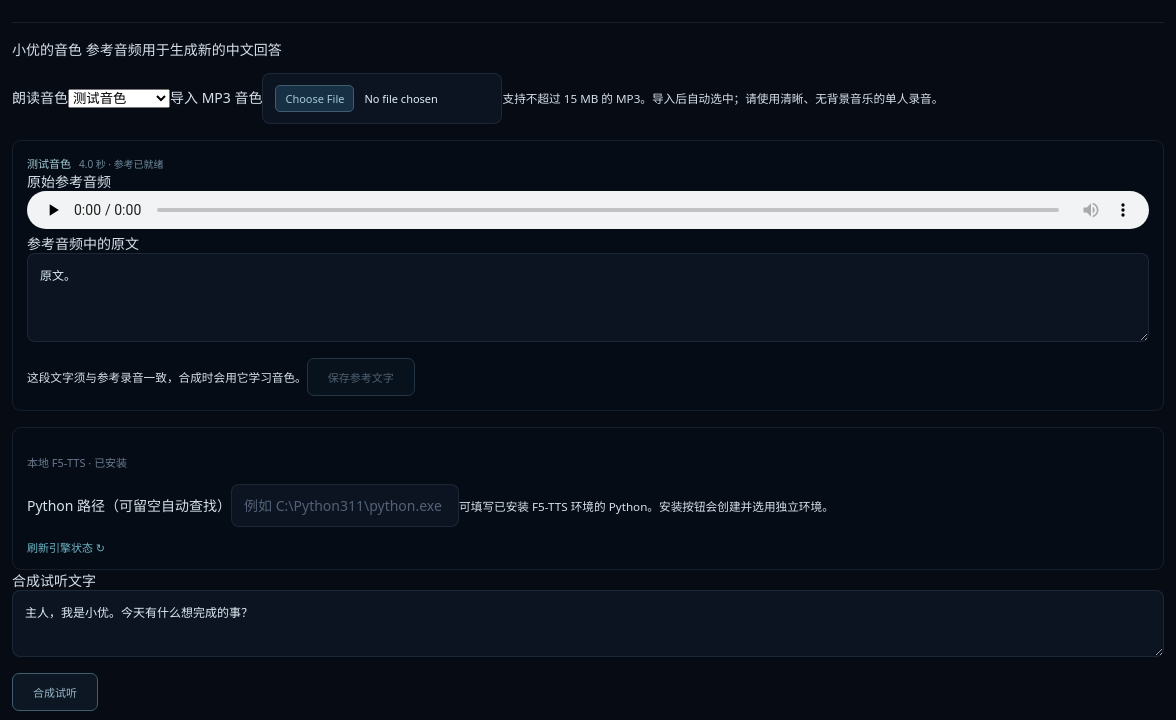
validates imported files and requires saving reference text before synthesis
Earlier steps of the test are not shown.
Replace the text in the text box labelled "参考音频中的原文 这段文字须与参考录音一致，合成时会用它学习音色。" with "修正后的原文。": [588, 297] box [27,253,1149,342]
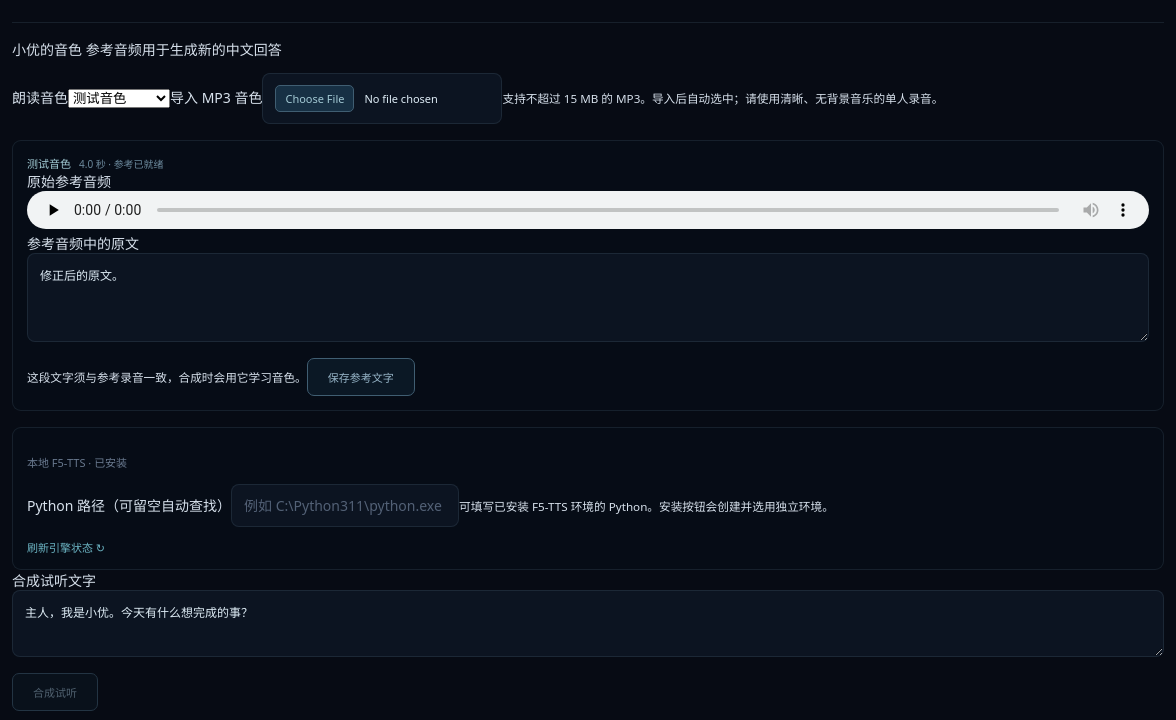
Check: the button "合成试听" is disabled, box [12,673,98,711]
Click the button "保存参考文字": [361, 377] box [307,358,415,396]
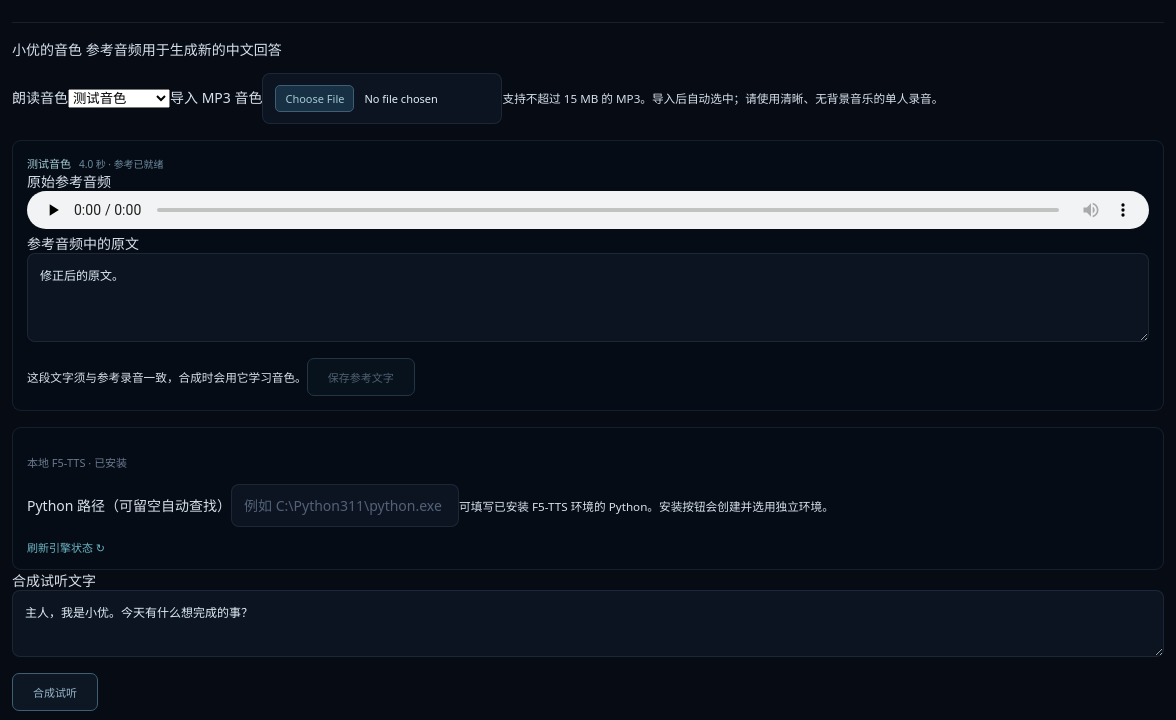
Check: the button "合成试听" is enabled, box [12,673,98,711]
